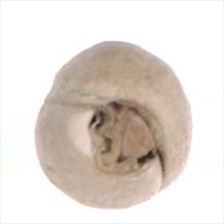L3: (84, 96, 168, 174)
L4: (33, 41, 193, 210)
